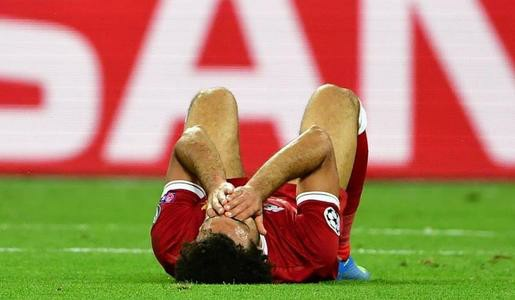fall: (135, 73, 383, 283)
